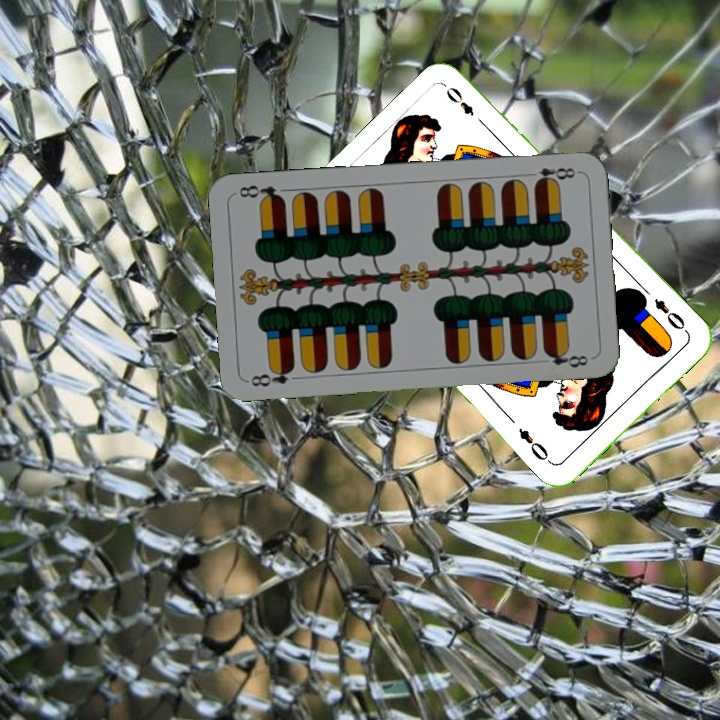E8: (247, 363, 297, 390), (531, 163, 581, 187)
EO: (650, 294, 691, 336)
